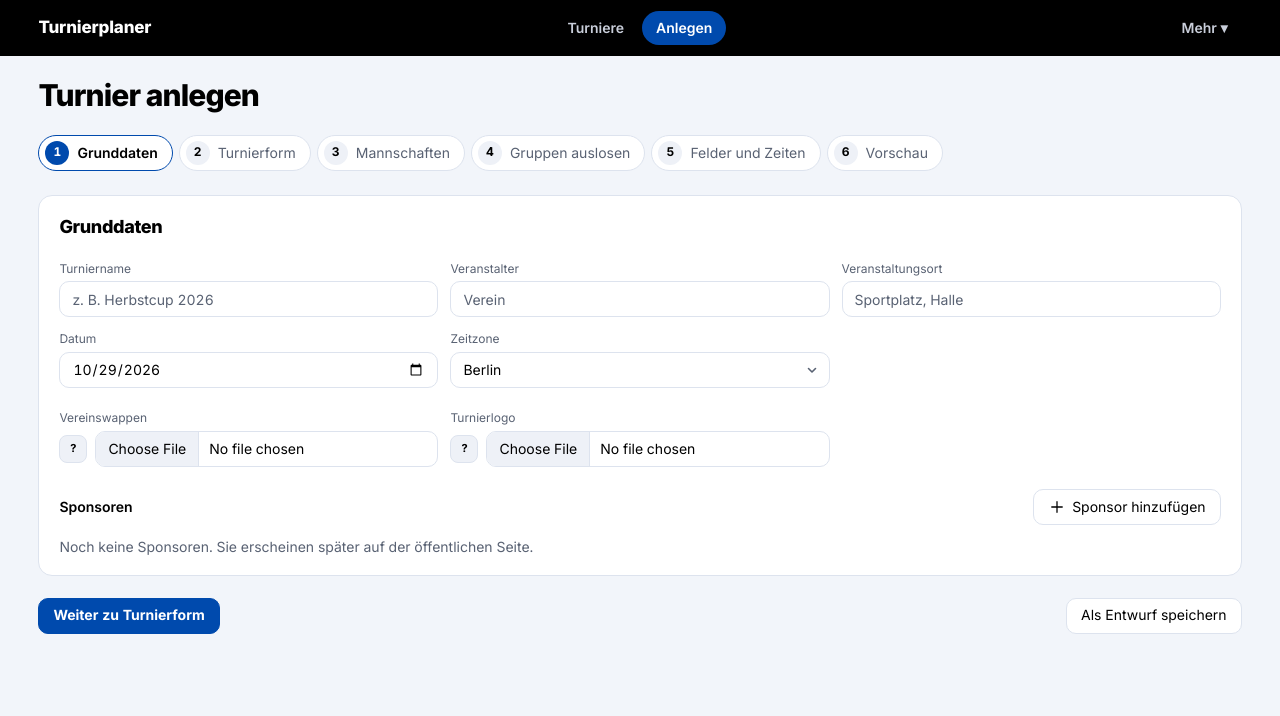
it: App › lässt im Assistenten nicht ohne Turniernamen weiter
The image size is (1280, 716).
Click the button "Weiter zu Turnierform": (129, 616) [38,598,220,634]
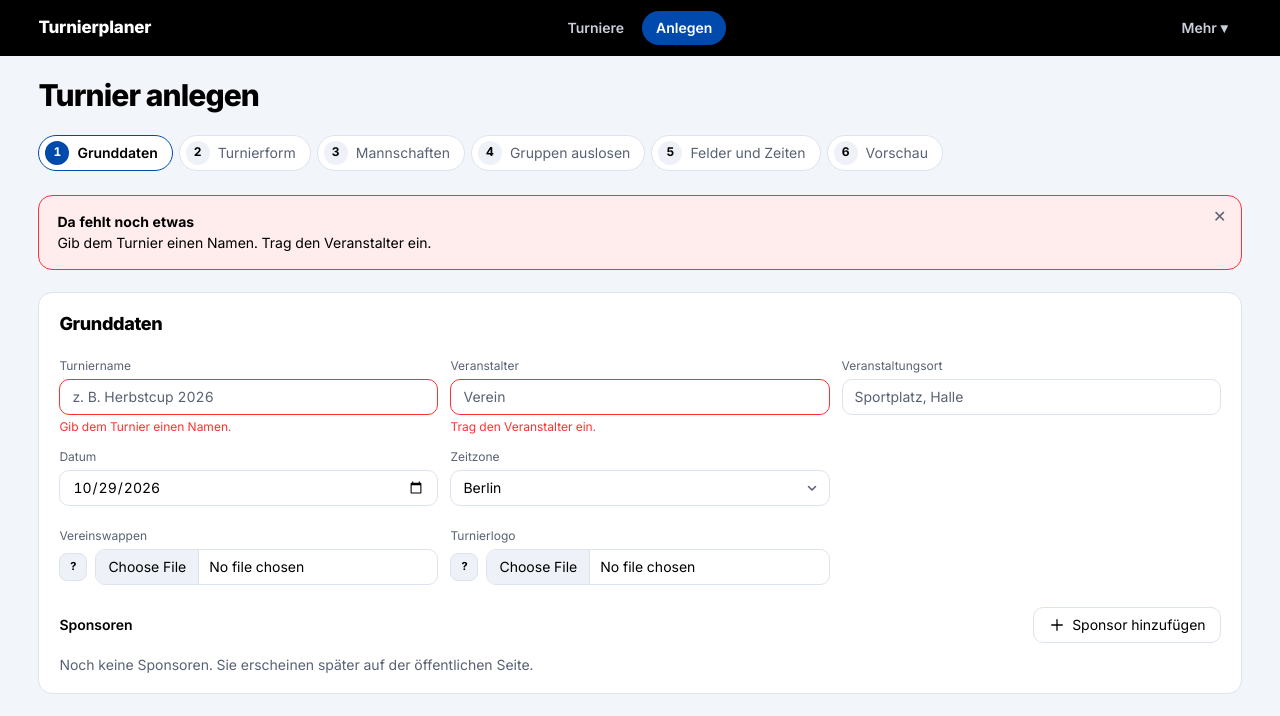
Result: the text "Gib dem Turnier einen Namen. Trag den Veranstalter ein." is shown at [57,234,431,251]
